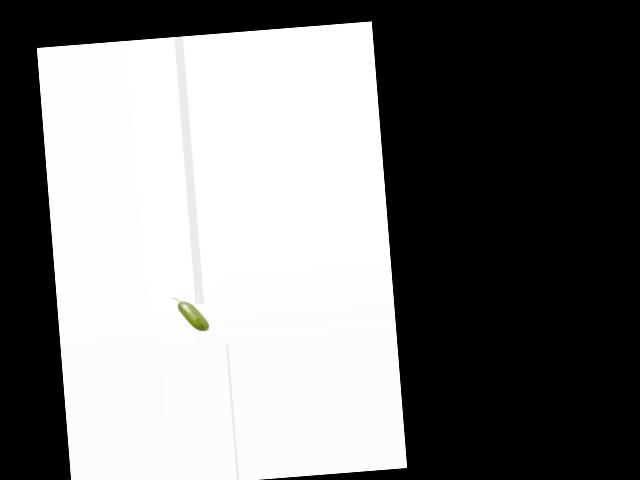cucumber: (173, 294, 210, 332)
